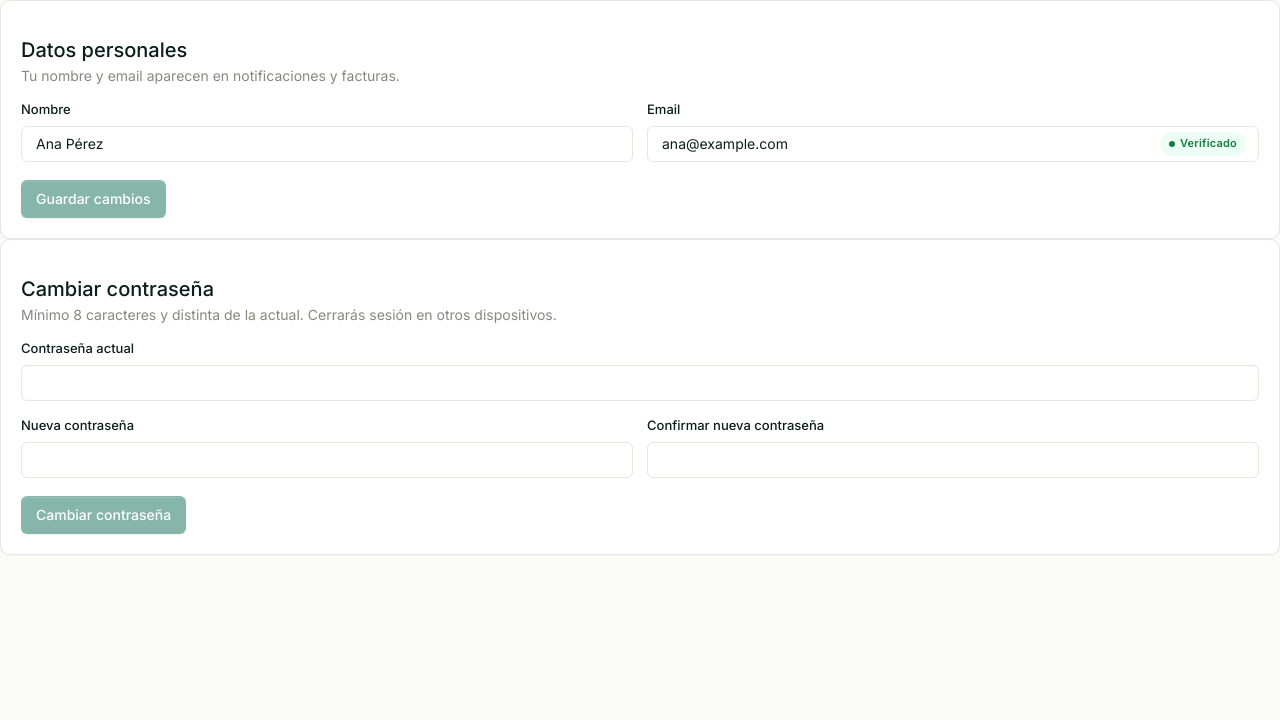
Test: AccountTabPerfil › habilita Guardar al modificar el nombre y muestra Descartar
The width and height of the screenshot is (1280, 720).
Step 1. Replace the text in the 1st field showing "Ana Pérez" with "Ana López" → (327, 144), box x1=34 y1=134 x2=620 y2=154
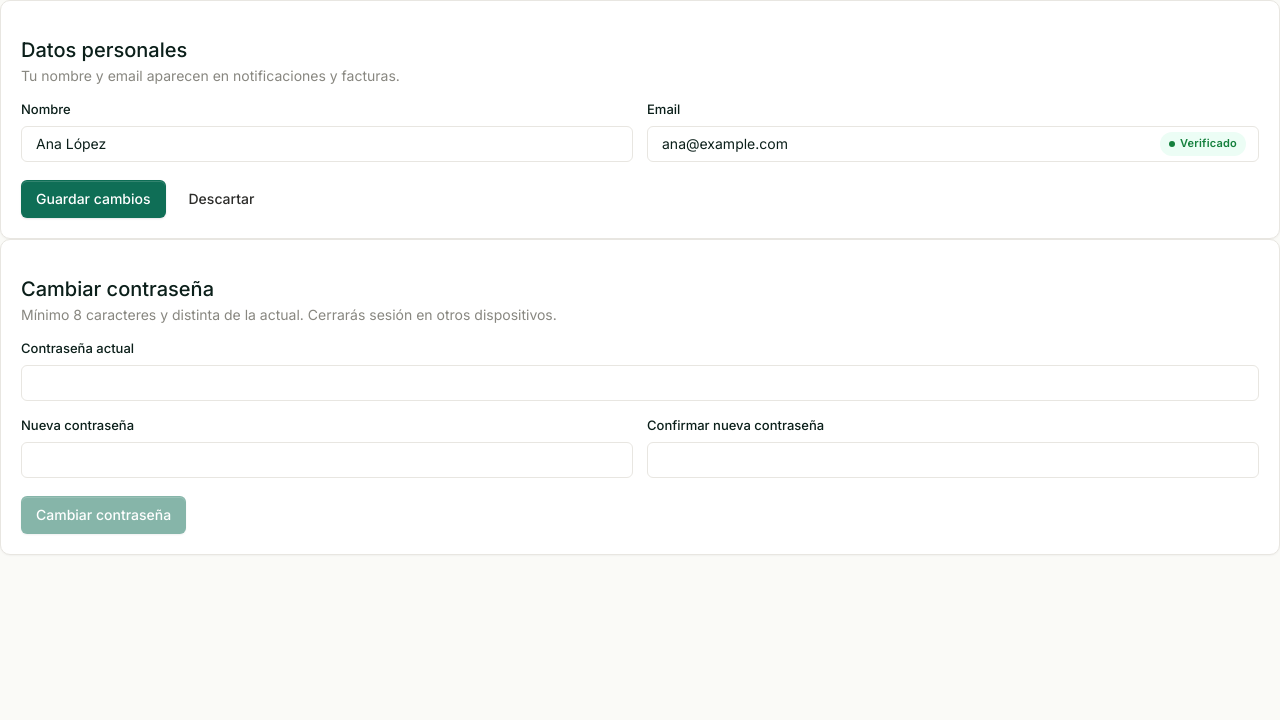
Expected: the button "Guardar cambios" is enabled, x1=21 y1=180 x2=166 y2=218
Expected: the button "Descartar" is shown, x1=174 y1=180 x2=269 y2=218
